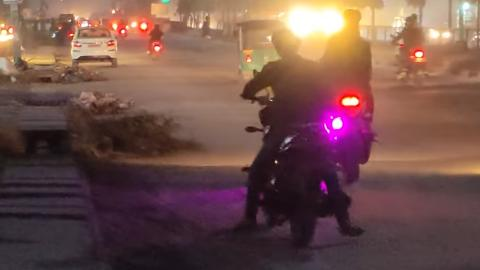bike: (239, 68, 341, 246)
